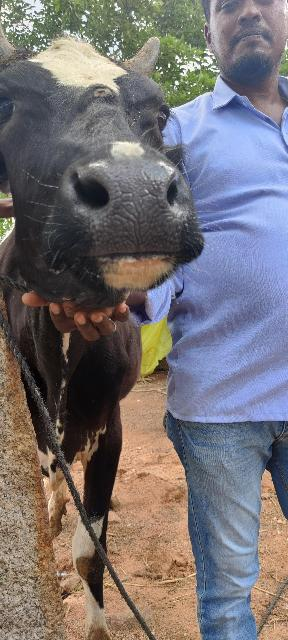Muzzle: (92, 162, 182, 254)
